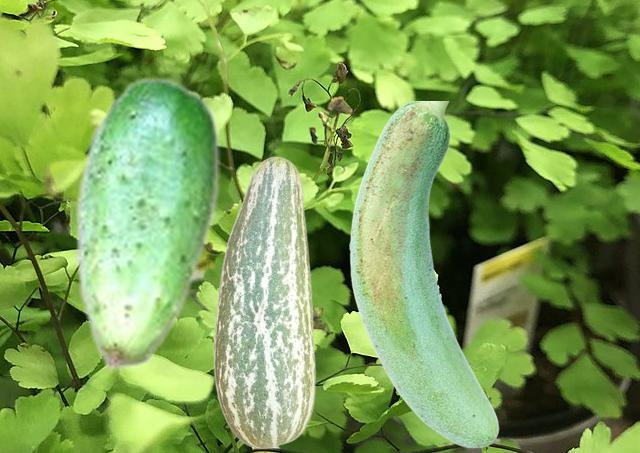cucumber: (349, 101, 498, 447), (74, 75, 219, 371), (213, 156, 315, 448)
